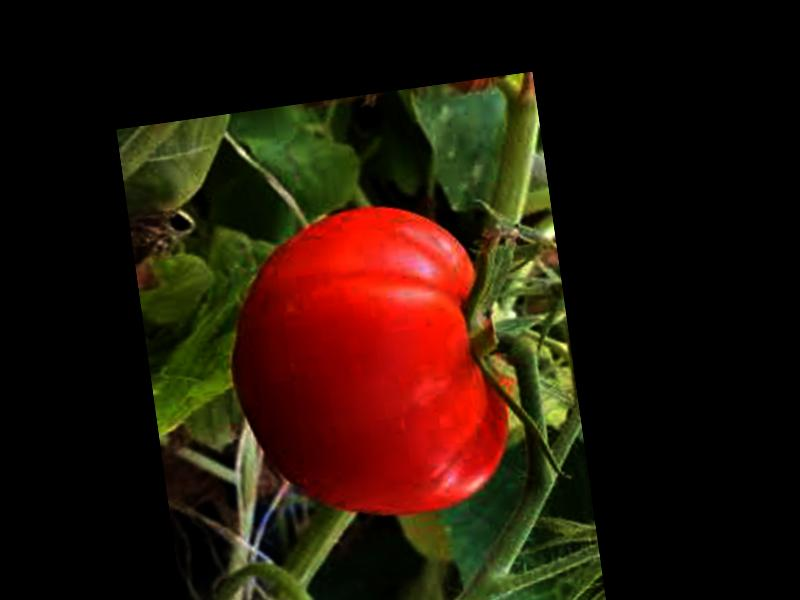Tomato: (215, 191, 519, 537)
